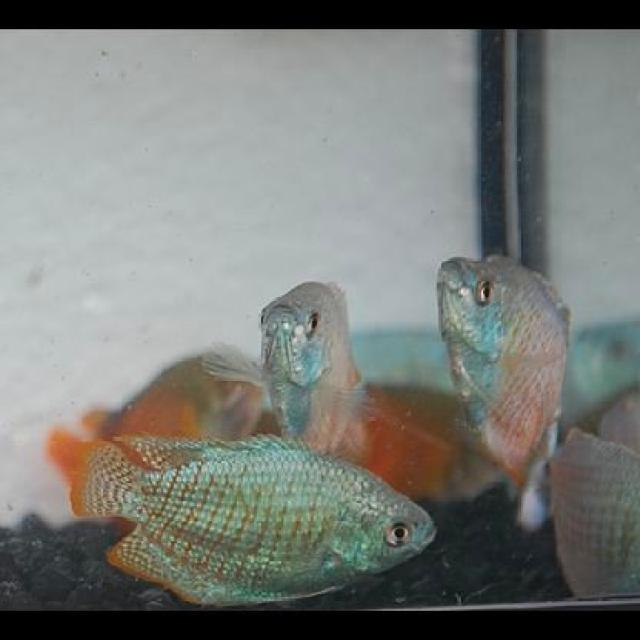Gourami: (79, 428, 441, 609), (433, 250, 570, 476)
